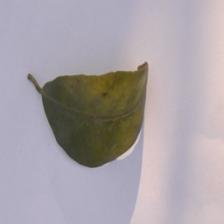black spot: (25, 64, 177, 170)
